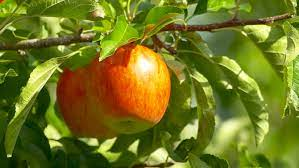tao: (55, 36, 179, 138)
